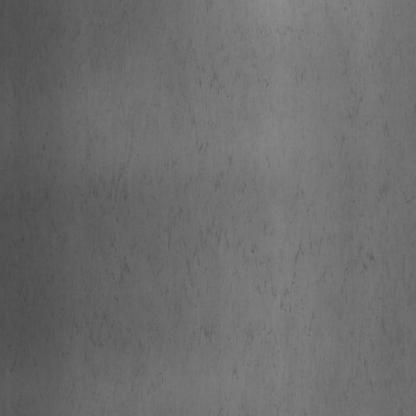silk_spot: (91, 30, 332, 351)
